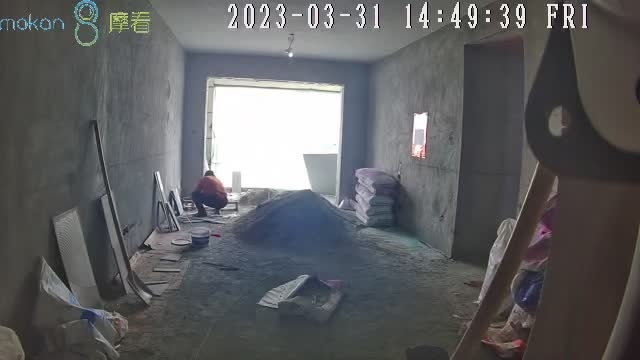people: (192, 171, 229, 218)
window: (211, 82, 340, 192)
